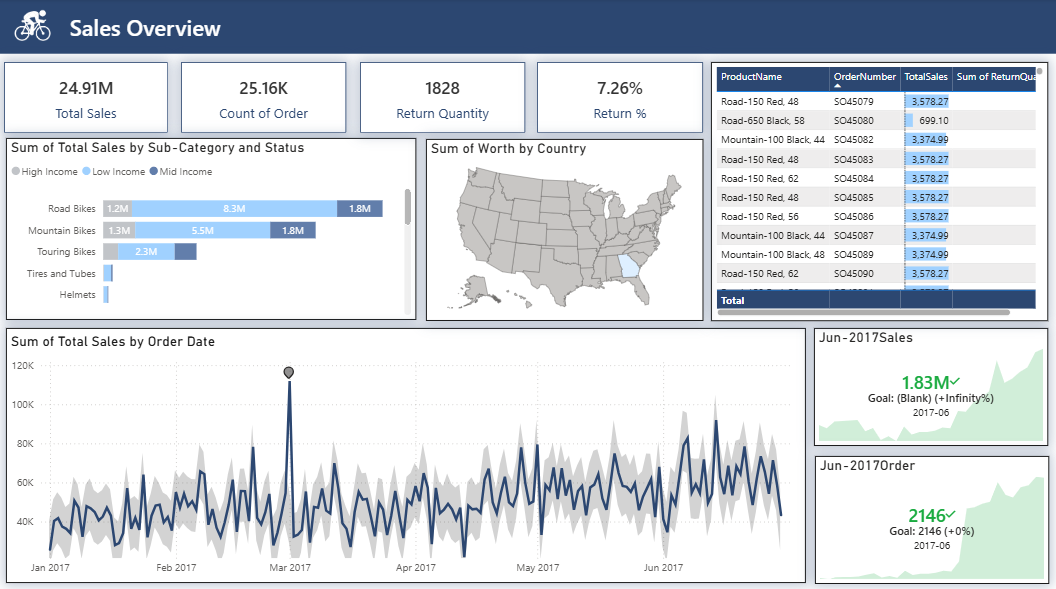

What the dashboard file says about the page in this screenshot:
{"tool":"powerbi","page":{"name":"Overview","canvas":[1280,720],"ordinal":0},"visuals":[{"type":"shape","title":"Report Title","box":[0,1.4,1280,64.7],"z":0},{"type":"image","title":" Logo","box":[13.3,0,64,65.3],"z":1000},{"type":"card","title":"Sales Card","fields":{"Values":["Sum(TotalSales.TotalSales)"]},"box":[10.8,75.9,197.5,85.5],"z":2000},{"type":"card","title":"Order Card","fields":{"Values":["Count(TotalSales.OrderNumber)"]},"box":[223.9,75.9,198.7,85.5],"z":3000},{"type":"barChart","title":"Sum of Total Sales by Sub-Category and Status","fields":{"Y":["Sum(TotalSales.TotalSales)"],"Category":["Product Subcategories.SubcategoryName"],"Series":["Customers Table.Status"]},"box":[13.2,167.4,493.6,219.1],"z":4000},{"type":"card","title":"Return Card","fields":{"Values":["Sum(Returns.ReturnQuantity)"]},"box":[439.5,75.9,198.7,85.5],"z":5000},{"type":"lineChart","title":"Sum of Total Sales by Order Date","fields":{"Category":["TotalSales.OrderDate"],"Y":["Sum(TotalSales.TotalSales)"]},"box":[13.2,396.1,963.2,307],"z":6000},{"type":"card","title":"Return% Card","fields":{"Values":["MeasureTable.%ReturnQ"]},"box":[652.6,75.9,199.9,85.5],"z":7000},{"type":"kpi","fields":{"Indicator":["Sum(TotalSales.TotalSales)"],"TrendLine":["Calendar.MonthYear"],"Goal":["MeasureTable.PreYearSales"]},"box":[986.1,396.1,281.7,142.1],"z":8000},{"type":"kpi","fields":{"TrendLine":["Calendar.MonthYear"],"Indicator":["Count(TotalSales.OrderNumber)"],"Goal":["MeasureTable.PreMonthOrder"]},"box":[987.3,550.2,281.7,154.1],"z":9000},{"type":"tableEx","fields":{"Values":["Products.ProductName","TotalSales.OrderNumber","TotalSales.TotalSales","Sum(Returns.ReturnQuantity)"]},"box":[862.1,75.9,405.8,311.8],"z":10000},{"type":"shapeMap","fields":{"Category":["Map.Country"],"Value":["Sum(Map.Worth)"]},"box":[518.9,168.6,333.5,219.1],"z":11000}]}

Visuals, with their boxes in screenshot pixels (x1, y1, x2, y2), scaled from the page's 1280x720 canvas onto the 1056x589 screenshot:
"Report Title" shape: <box>0,1,1055,54</box>
" Logo" image: <box>11,0,64,53</box>
"Sales Card" card: <box>9,62,172,132</box>
"Order Card" card: <box>185,62,349,132</box>
"Sum of Total Sales by Sub-Category and Status" barChart: <box>11,137,418,316</box>
"Return Card" card: <box>363,62,527,132</box>
"Sum of Total Sales by Order Date" lineChart: <box>11,324,806,575</box>
"Return% Card" card: <box>538,62,703,132</box>
kpi - Sum(TotalSales.TotalSales) x Calendar.MonthYear: <box>814,324,1046,440</box>
kpi - Calendar.MonthYear x Count(TotalSales.OrderNumber): <box>815,450,1047,576</box>
tableEx - Products.ProductName x TotalSales.OrderNumber: <box>711,62,1046,317</box>
shapeMap - Map.Country x Sum(Map.Worth): <box>428,138,703,317</box>
